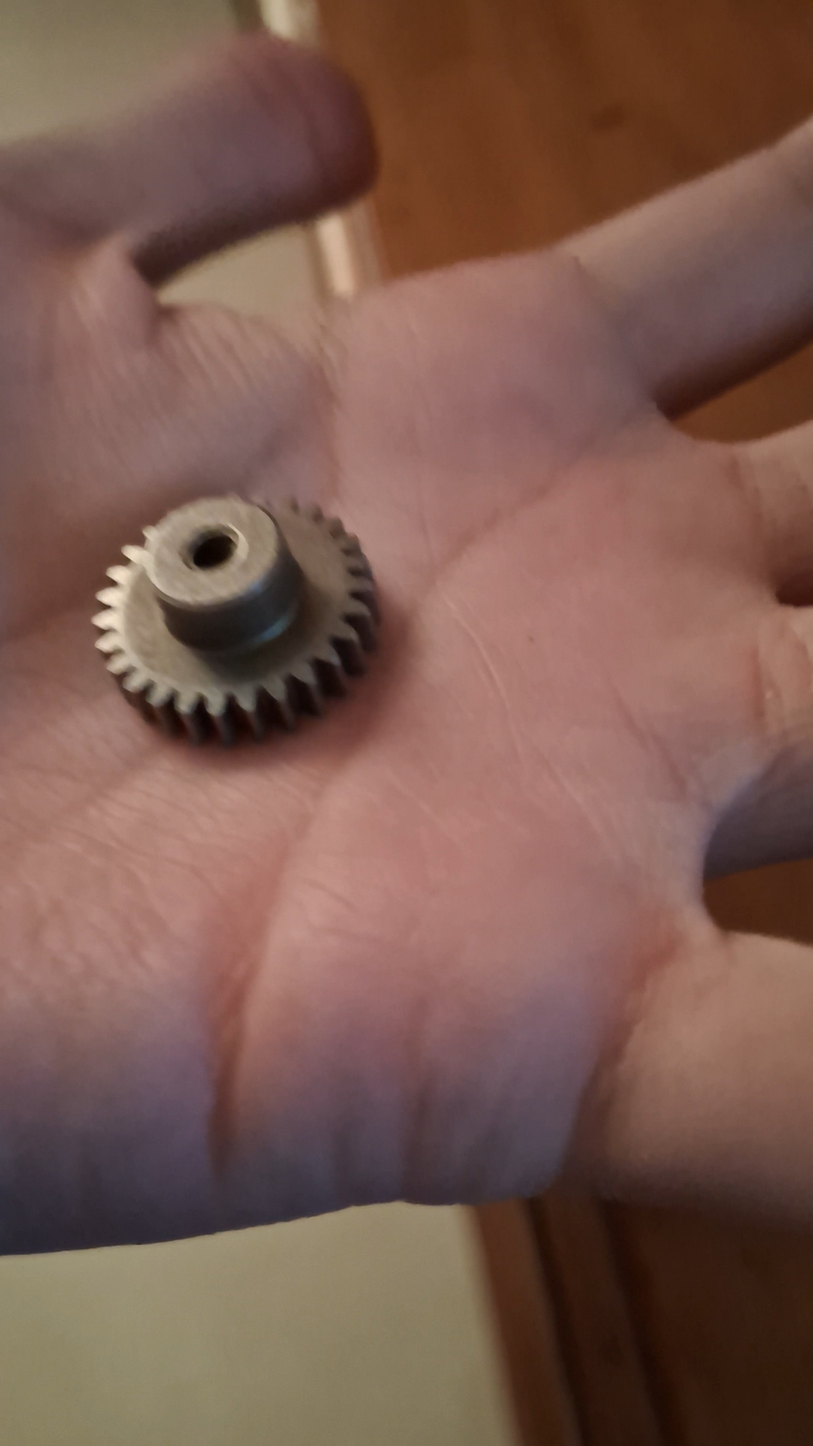spur gear: (94, 497, 377, 742)
